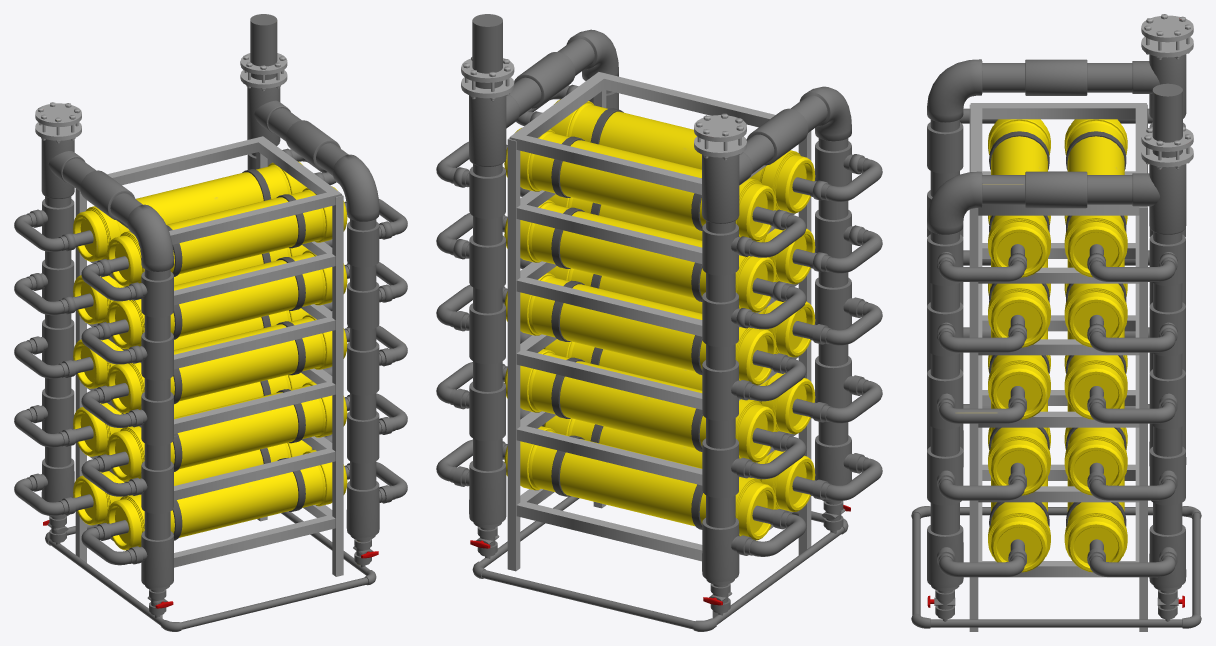
The model's file is Water_Treatment_System_02.fbx.
The picture shows the model from 3 angles, left to right: view 1: azimuth 30°, elevation 25°; view 2: azimuth 150°, elevation 25°; view 3: azimuth 270°, elevation 25°; orthographic projection. The views are drawn at different scales.
Parts seen in each view (by area): view 1: Water_Treatment_System_02; view 2: Water_Treatment_System_02; view 3: Water_Treatment_System_02.
Boxes of the visible parts, box(x1,y1,x2,y2) form: Water_Treatment_System_02: box(14, 14, 407, 631); Water_Treatment_System_02: box(436, 14, 882, 631); Water_Treatment_System_02: box(911, 14, 1201, 631).
Bounding box in the file's own units: 1509 × 2341 × 1127.
